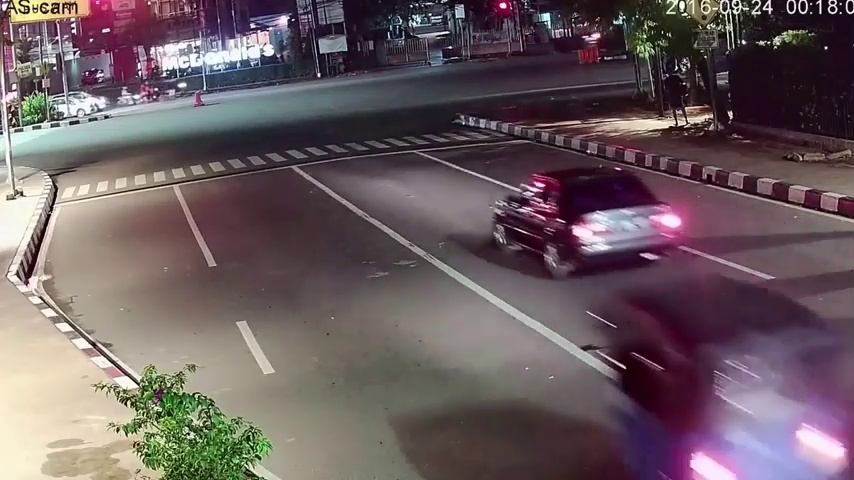car: (595, 282, 842, 480), (492, 163, 677, 283)
